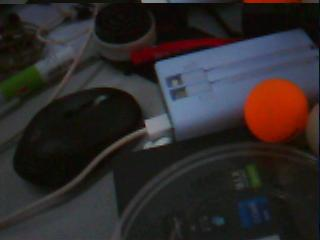oball: (244, 79, 305, 144)
